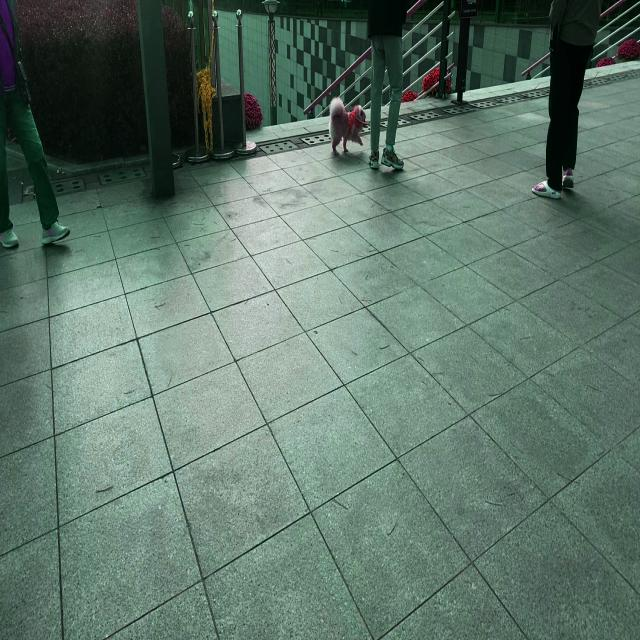Leashed_Dog: (327, 64, 383, 160)
